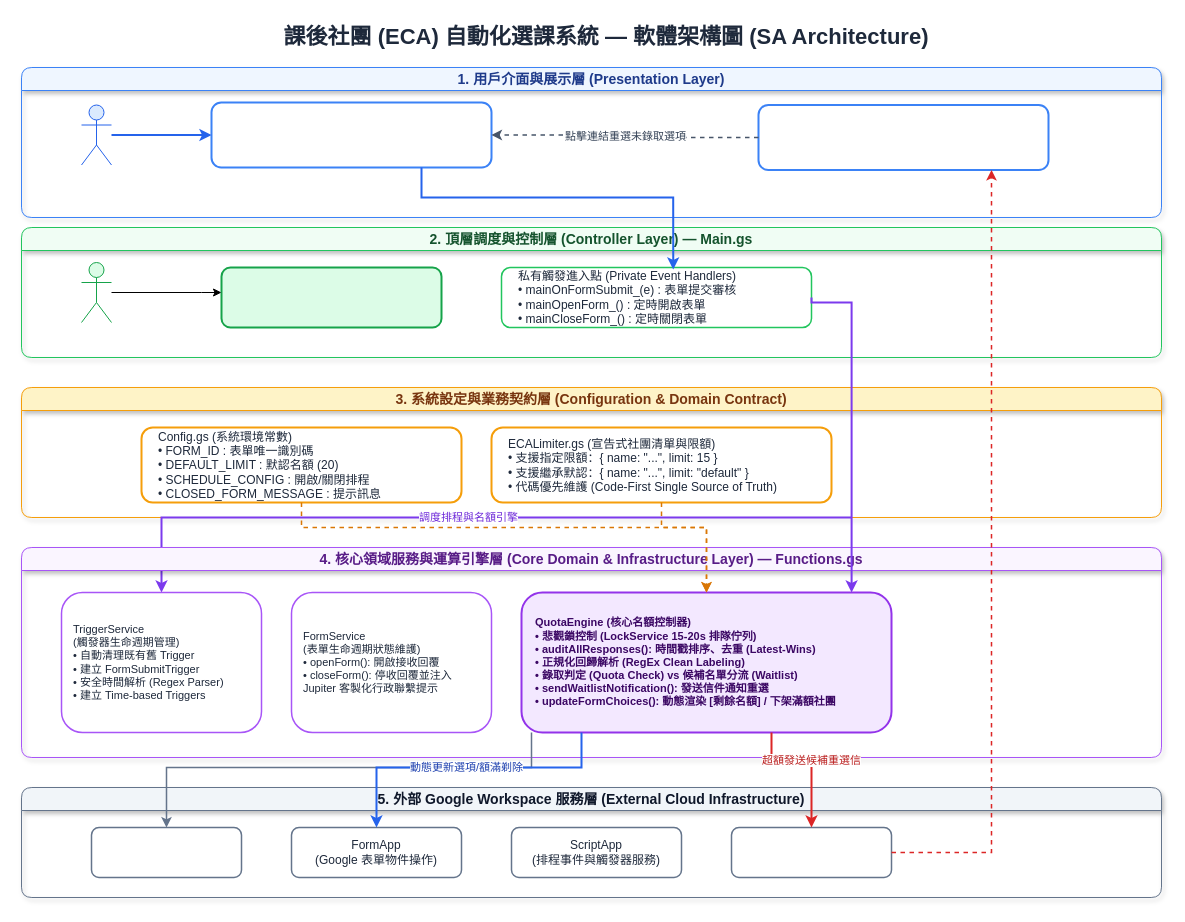
Some shapes in this 1185 by 922 pixel diagram are drawn without their labels. The shapes that lost their labels are listed below. From the top down, each one's centre as x and y in pixels, then its label:
(x=96, y=134): 學生 / 家長 (使用者)
(x=351, y=134): Google Forms 填寫前端 • 允許回覆編輯 (Response Editing) • 動態名額標籤 [剩餘 X 名] / [最後 1 名!]
(x=903, y=137): 學生收件匣 (Gmail / Outlook) • 收到超額候補與重新選課通知 • 附帶專屬直接編輯連結 (EditResponseUrl)
(x=96, y=292): 學校系統管理員 (Admin / IT)
(x=331, y=297): ⚡ oneClickSetup() 一鍵全自動部署發佈入口 (選單唯一對外暴顯示函數)
(x=166, y=852): LockService (並發互斥鎖機制)
(x=811, y=852): MailApp (SMTP 郵件發送服務)
